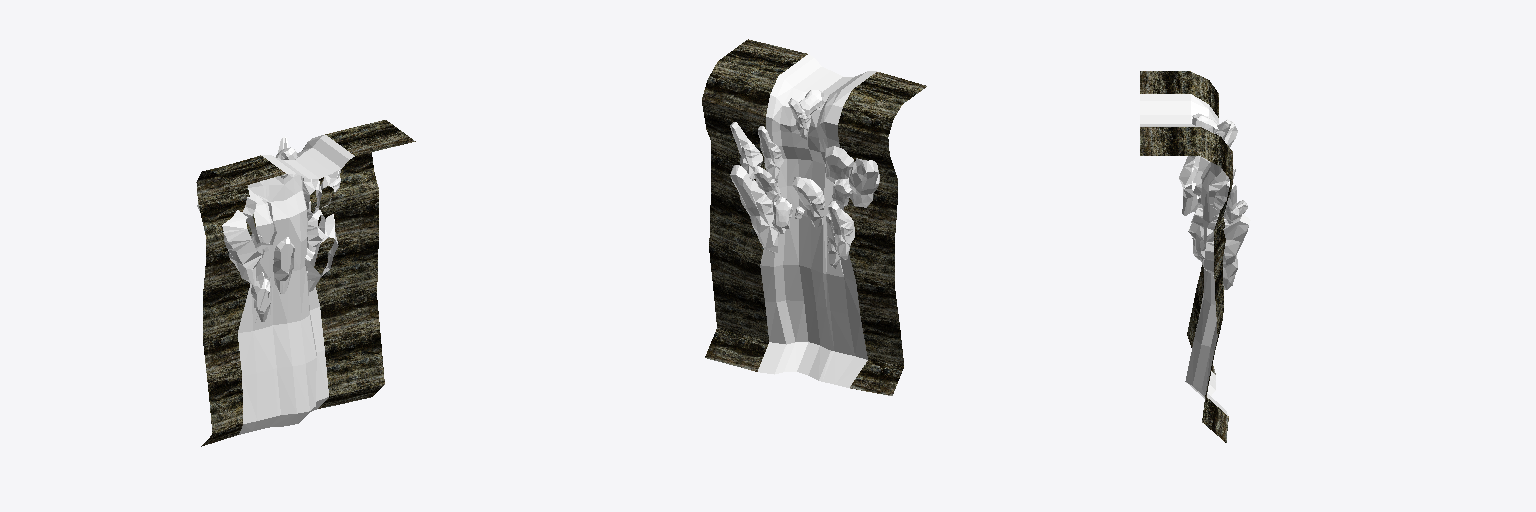
The picture shows the model from 3 angles: view 1: azimuth 30°, elevation 25°; view 2: azimuth 150°, elevation 25°; view 3: azimuth 270°, elevation 25°; orthographic projection.
Parts seen in each view (by area): view 1: mesh0, mesh1; view 2: mesh1, mesh0; view 3: mesh1, mesh0.
Boxes of the visible parts, x1=… form: mesh0: x1=196, y1=120, x2=415, y2=446; mesh1: x1=197, y1=135, x2=354, y2=434; mesh1: x1=730, y1=54, x2=879, y2=387; mesh0: x1=702, y1=39, x2=926, y2=395; mesh1: x1=1140, y1=94, x2=1250, y2=415; mesh0: x1=1140, y1=71, x2=1232, y2=442.
Size of the model in its own units: 25.1 by 38.31 by 33.79.
Materials: 3 (2 with a texture image).